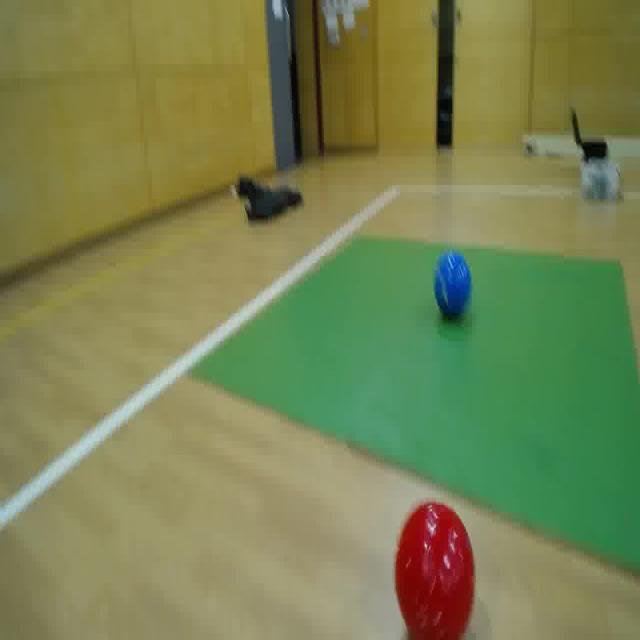blue_ball: (430, 245, 473, 327)
red_ball: (394, 500, 475, 640)
